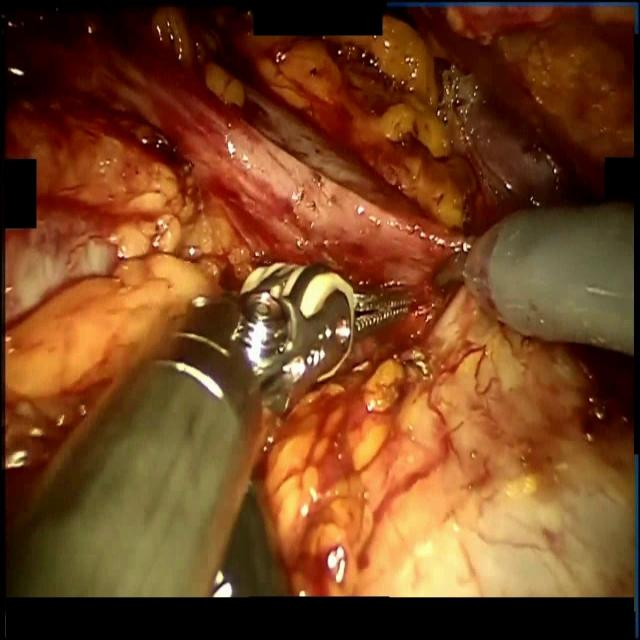surgical-area: (0, 2, 635, 597)
surgical-tool: (7, 257, 416, 597), (435, 202, 634, 356)
